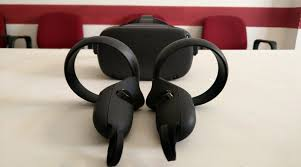oculus: (94, 24, 197, 80)
